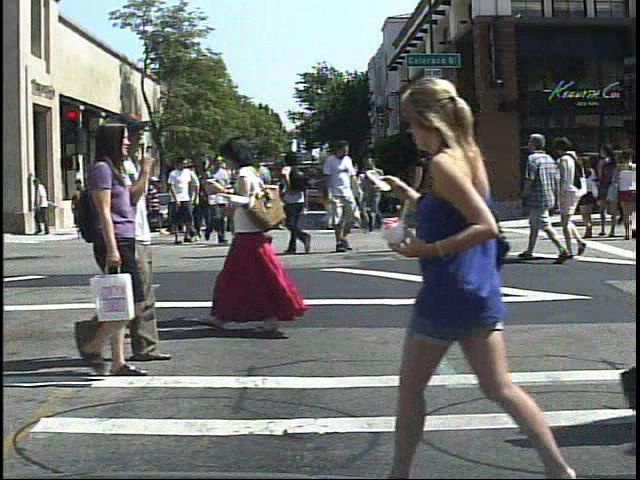person: (350, 65, 577, 480), (55, 108, 158, 382), (206, 134, 300, 336), (118, 109, 172, 372), (241, 131, 285, 333), (551, 132, 601, 260), (409, 134, 458, 262), (519, 131, 565, 266), (239, 137, 282, 262), (454, 144, 498, 256), (325, 140, 368, 254), (281, 150, 322, 258), (233, 150, 273, 248), (198, 153, 235, 250), (167, 156, 205, 243), (571, 147, 604, 243), (143, 173, 164, 242), (70, 182, 90, 232)
